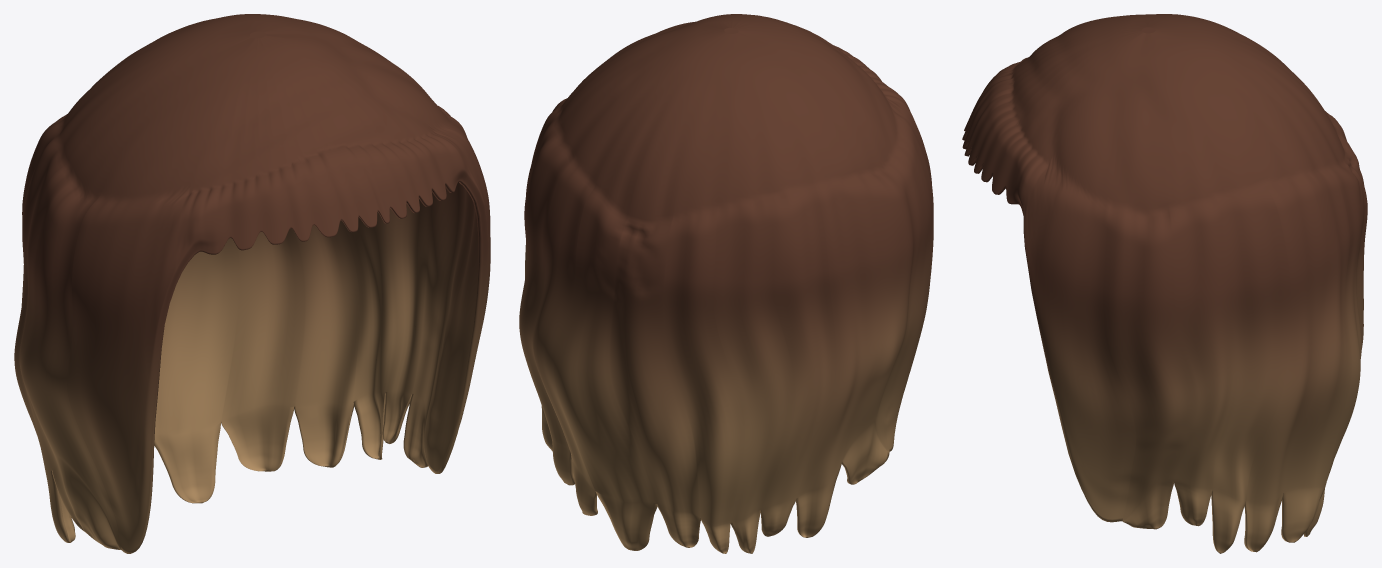
File: long-headband-ombre.glb
3 renders of one model, left to right at view 1: azimuth 30°, elevation 25°; view 2: azimuth 150°, elevation 25°; view 3: azimuth 270°, elevation 25°, orthographic. The views are drawn at different scales.
Parts seen in each view (by area): view 1: Hair / rounded long fringe; view 2: Hair / rounded long fringe; view 3: Hair / rounded long fringe.
Part boxes in pixels (<box>): Hair / rounded long fringe: <box>14,14,490,553</box>; Hair / rounded long fringe: <box>519,14,933,553</box>; Hair / rounded long fringe: <box>962,14,1367,553</box>.
Size of the model in its own units: 0.8534 by 1.04 by 0.7794.
